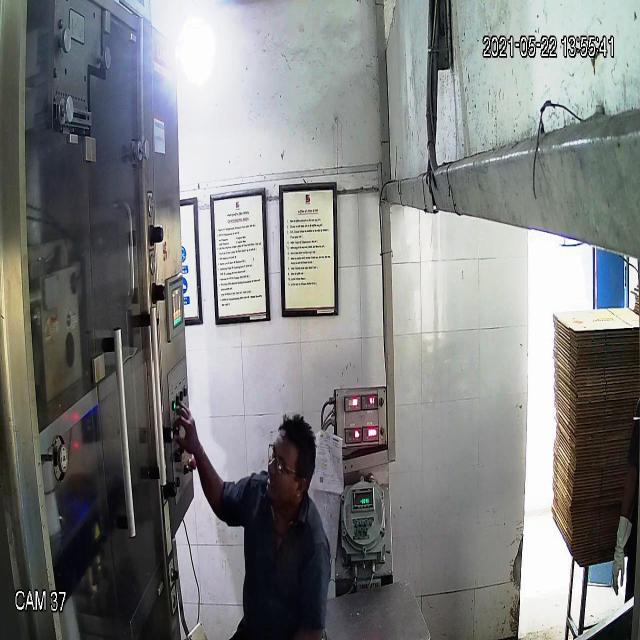glasses: (265, 440, 311, 492)
